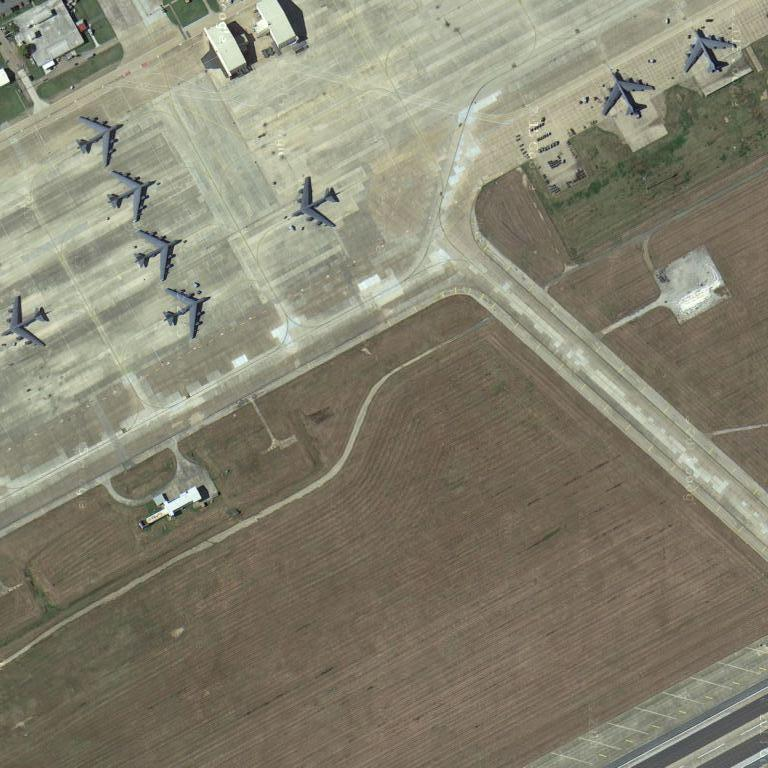B-52: (160, 281, 214, 342), (290, 171, 341, 235), (600, 65, 657, 121), (105, 165, 158, 225), (132, 223, 184, 284), (2, 292, 53, 353), (681, 24, 739, 77), (75, 110, 128, 168)
